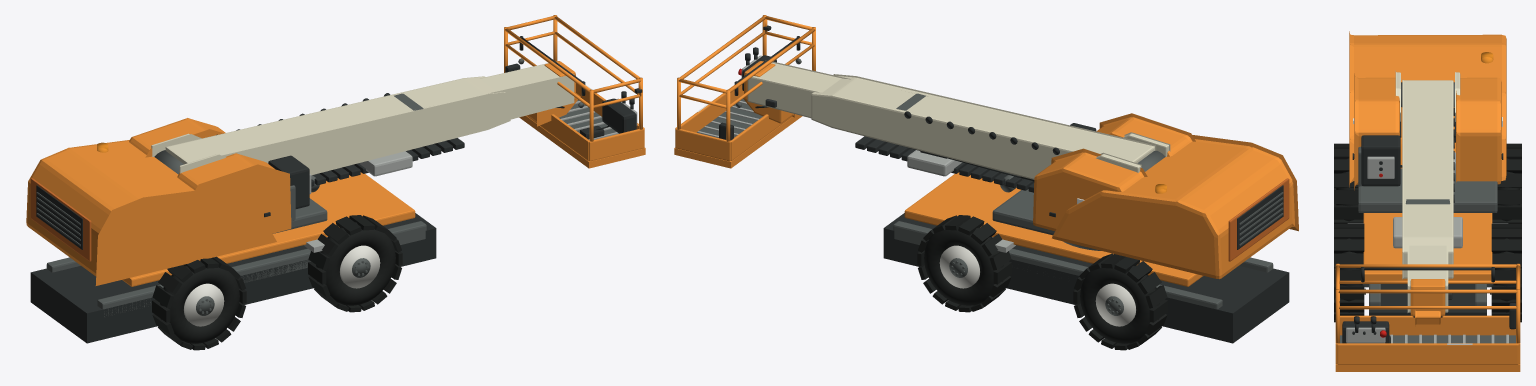
3 renders of one model, left to right at view 1: azimuth 30°, elevation 25°; view 2: azimuth 150°, elevation 25°; view 3: azimuth 270°, elevation 25°, orthographic. The views are drawn at different scales.
Visible parts, largest first — view 1: Counterweight, BaseBoomShell, Frame, LowerDeck, TankCover, MidBoomShell, Wheel_FR, Wheel_RR_Tire, Wheel_FR_Tire, Wheel_RR, FrameRail_R, EngineCover (+12 smaller); view 2: Counterweight, BaseBoomShell, Frame, LowerDeck, EngineCover, Wheel_RL, MidBoomShell, Wheel_FL, Wheel_RL_Tire, Wheel_FL_Tire, FrameRail_L, TankCover (+11 smaller); view 3: BaseBoomShell, Counterweight, EngineCover, LowerDeck, PlatformToeboard_F, TankCover, UpperFrame, PlatformToeboard_B, Wheel_FR, Wheel_FL, Wheel_RL, Wheel_RR (+24 smaller).
Part boxes in pixels (x1,y1,x2,y2): Counterweight: (26, 140, 276, 285); BaseBoomShell: (165, 76, 510, 175); Frame: (30, 213, 436, 343); LowerDeck: (122, 172, 415, 286); TankCover: (177, 153, 291, 233); MidBoomShell: (411, 63, 574, 119); Wheel_FR: (308, 215, 402, 312); Wheel_RR_Tire: (160, 260, 239, 343); Wheel_FR_Tire: (316, 222, 395, 305); Wheel_RR: (152, 256, 246, 350); FrameRail_R: (97, 221, 426, 316); EngineCover: (129, 118, 225, 157); Counterweight: (1052, 135, 1298, 279); BaseBoomShell: (811, 74, 1156, 179); Frame: (883, 213, 1289, 343); LowerDeck: (904, 172, 1202, 286); EngineCover: (1033, 148, 1147, 231); Wheel_RL: (1073, 253, 1167, 350); MidBoomShell: (747, 60, 927, 118); Wheel_FL: (917, 215, 1011, 312); Wheel_RL_Tire: (1080, 260, 1159, 343); Wheel_FL_Tire: (924, 222, 1003, 305); FrameRail_L: (893, 221, 1222, 309); TankCover: (1096, 113, 1195, 156); BaseBoomShell: (1402, 79, 1453, 279); Counterweight: (1349, 31, 1506, 187); EngineCover: (1456, 77, 1501, 184); LowerDeck: (1363, 213, 1492, 280); PlatformToeboard_F: (1337, 343, 1518, 364); TankCover: (1354, 73, 1399, 190); UpperFrame: (1358, 168, 1497, 212); PlatformToeboard_B: (1340, 315, 1515, 335); Wheel_FR: (1334, 223, 1364, 322); Wheel_FL: (1491, 223, 1521, 322); Wheel_RL: (1492, 143, 1521, 223); Wheel_RR: (1334, 143, 1363, 223).
Bounding box in the file's own units: 8.71 × 2.5 × 2.48.
